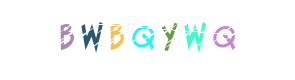B: (51, 0, 131, 80), (103, 0, 183, 80)
Q: (107, 0, 187, 80), (131, 0, 211, 80)
W: (76, 0, 156, 80), (128, 0, 208, 80)
Y: (119, 0, 199, 80)
